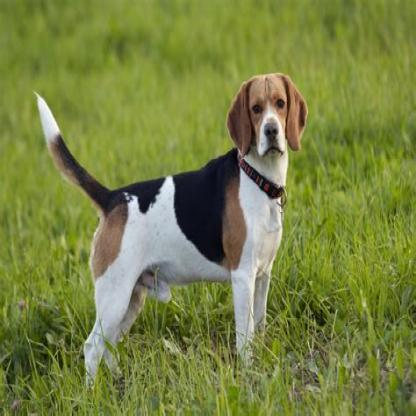dog: (34, 73, 308, 392)
